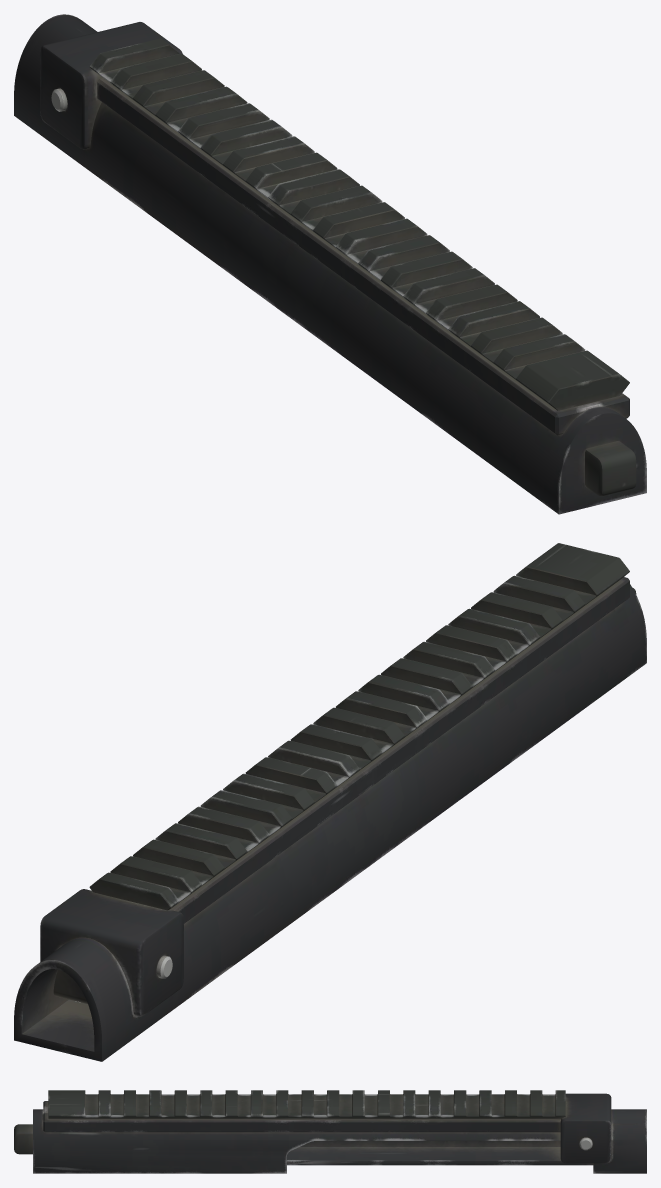
Rendered from tampa_trilho_ak.glb.
3 renders of one model, top to bottom at view 1: azimuth 30°, elevation 25°; view 2: azimuth 150°, elevation 25°; view 3: azimuth 270°, elevation 25°, orthographic. The views are drawn at different scales.
Visible parts, largest first — view 1: tampa_trilho_ak_tampa; view 2: tampa_trilho_ak_tampa; view 3: tampa_trilho_ak_tampa.
Part boxes in pixels (x1,y1,x2,y2): tampa_trilho_ak_tampa: (14,14,646,514); tampa_trilho_ak_tampa: (14,543,646,1061); tampa_trilho_ak_tampa: (14,1090,646,1173).
Size of the model in its own units: 0.0288 by 0.0275 by 0.2495.
Materials: 1 (1 with a texture image).
